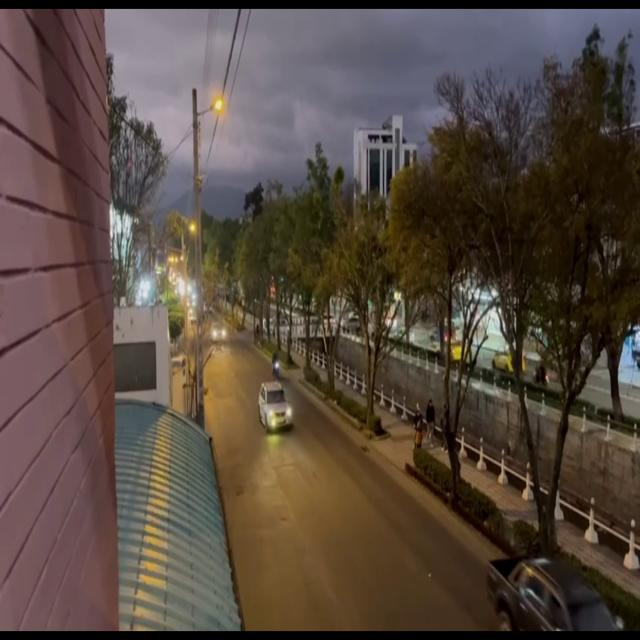CMT: (490, 559, 621, 636)
SUV: (260, 384, 290, 428)
